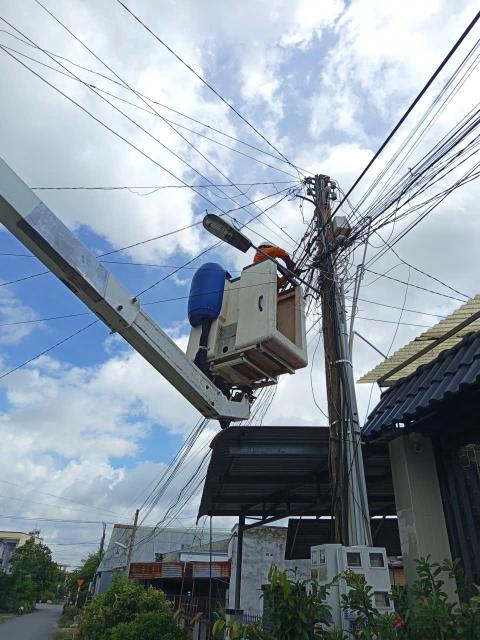gloves: (282, 253, 298, 276)
helmet: (255, 239, 281, 252)
